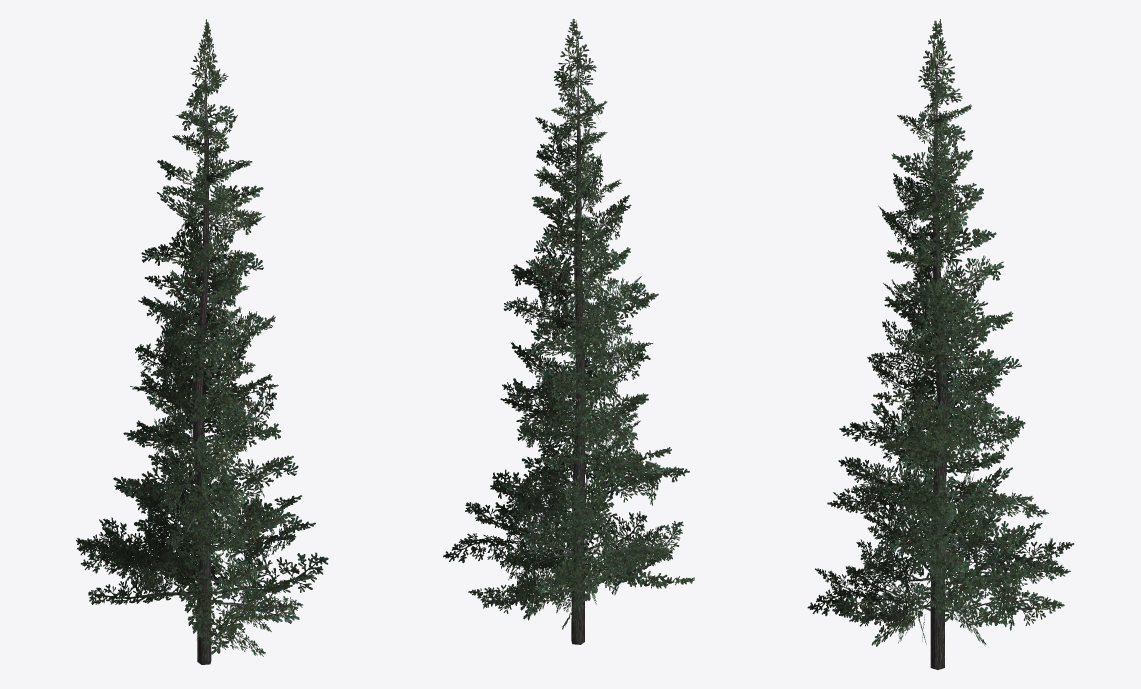
The model's file is AlpinePlant01.FBX.
The picture shows the model from 3 angles, left to right: view 1: azimuth 30°, elevation 25°; view 2: azimuth 150°, elevation 25°; view 3: azimuth 270°, elevation 25°; orthographic projection. The views are drawn at different scales.
Visible parts, largest first — view 1: AlpinePlant01; view 2: AlpinePlant01; view 3: AlpinePlant01.
Boxes of the visible parts, left/top/right/bottom form: AlpinePlant01: left=76, top=19, right=328, bottom=664; AlpinePlant01: left=443, top=19, right=694, bottom=644; AlpinePlant01: left=807, top=19, right=1074, bottom=669.
Size of the model in its own units: 699 by 1312 by 634.
2 materials, 2 textured.
